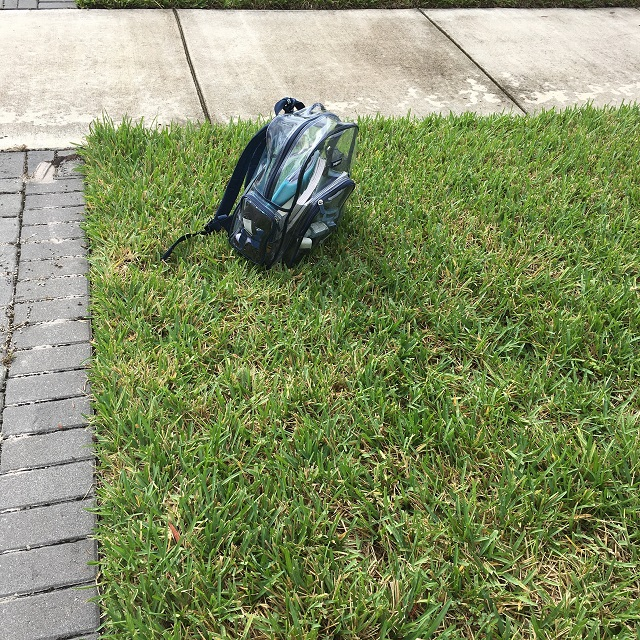clearbackpack: (224, 94, 360, 265)
